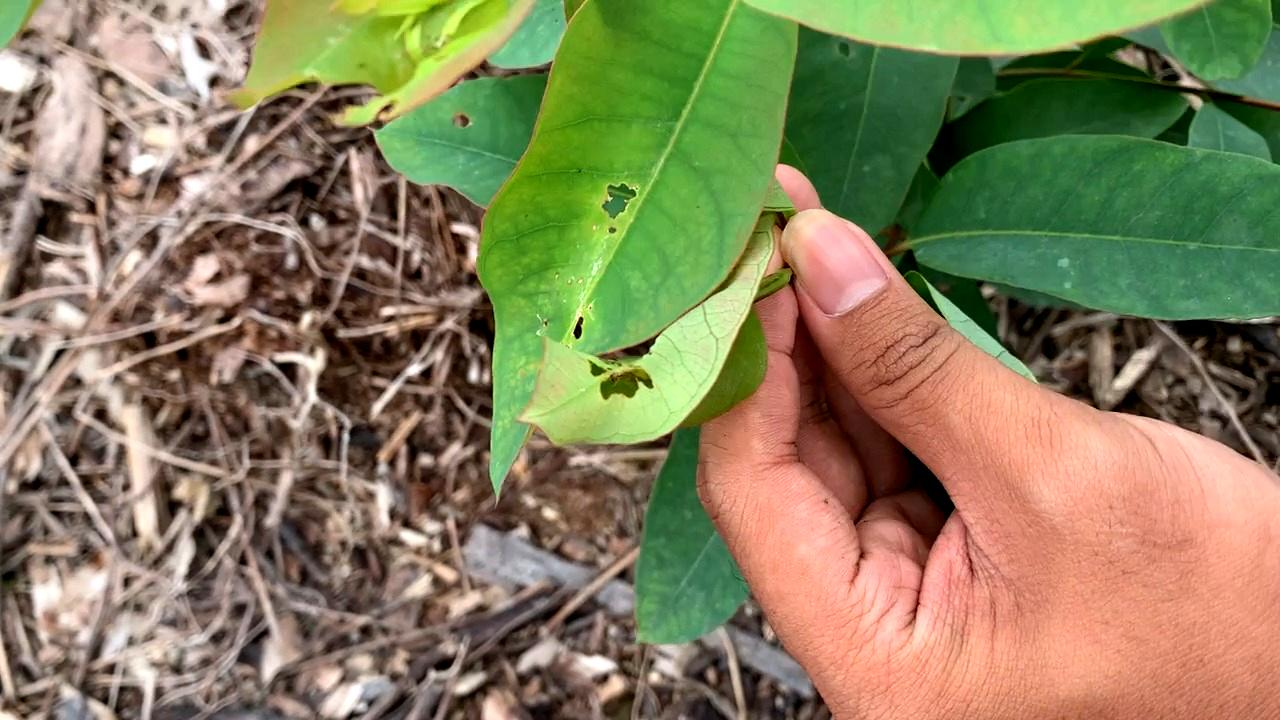Leaf Roller - Leaf: (520, 220, 792, 469)
